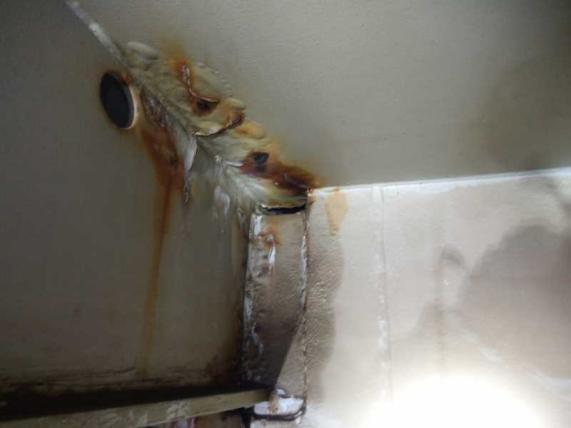corrosion: (139, 120, 184, 343), (167, 53, 249, 122), (234, 139, 329, 196), (227, 280, 272, 385), (96, 67, 143, 134), (317, 186, 358, 234), (254, 218, 295, 263)
